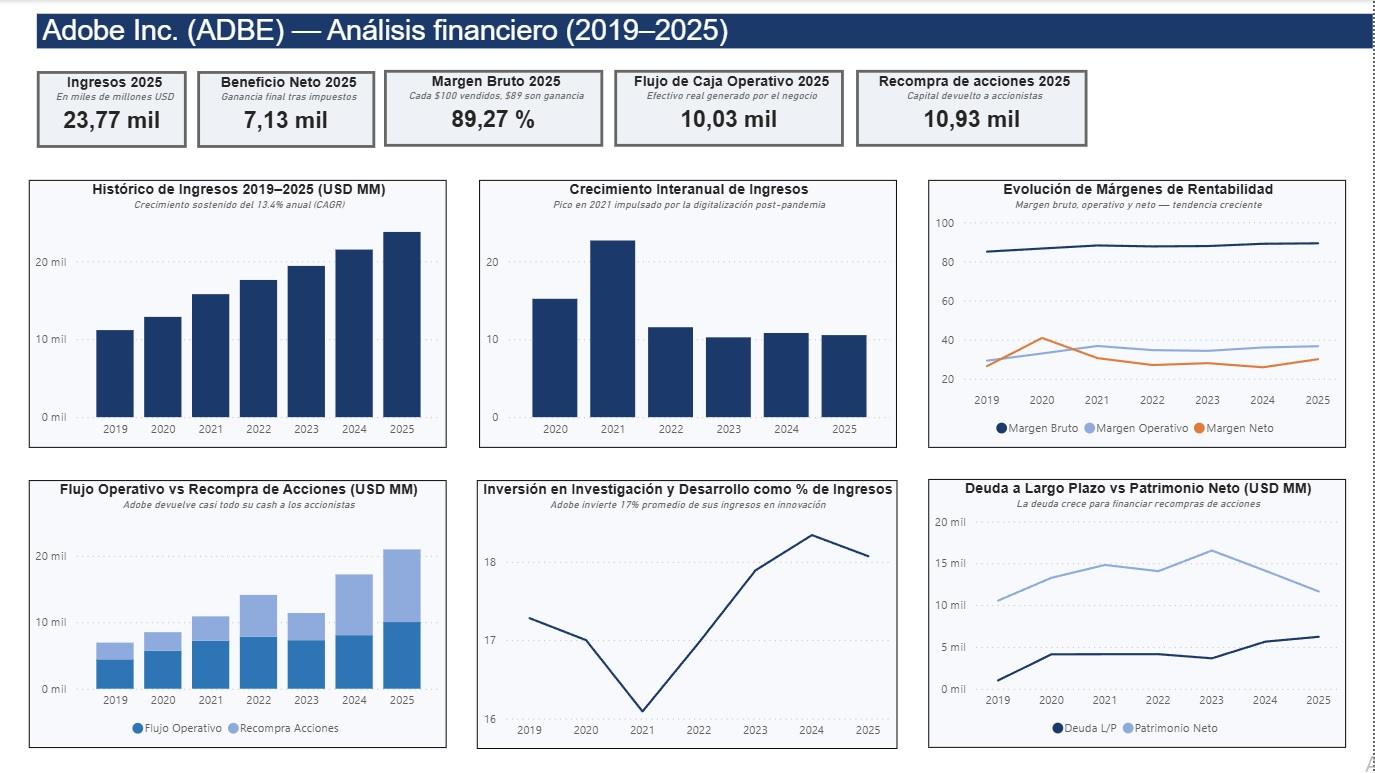

This screenshot's page, from the dashboard's own definition file:
{"tool":"powerbi","page":{"name":"Español","canvas":[1280,720],"ordinal":0},"visuals":[{"type":"card","title":"Ingresos 2025","fields":{"Values":["Max(adobe_bi.revenue)"]},"box":[35.2,66.2,139.8,71.5],"z":0},{"type":"card","title":"Beneficio Neto 2025","fields":{"Values":["Max(adobe_bi.net_income)"]},"box":[184.7,66.2,165.4,71.5],"z":1000},{"type":"card","title":"Margen Bruto 2025","fields":{"Values":["adobe_bi.Gross Margin FY2025"]},"box":[358.6,65.1,203.9,71.5],"z":2000},{"type":"card","title":"Flujo de Caja Operativo 2025","fields":{"Values":["Max(adobe_bi.cash_from_operations)"]},"box":[573.2,65.1,213.5,71.5],"z":3000},{"type":"card","title":"Recompra de acciones 2025","fields":{"Values":["adobe_bi.Buybacks FY2025"]},"box":[798.4,65.1,215.6,71.5],"z":4000},{"type":"columnChart","title":"Histórico de Ingresos 2019–2025 (USD MM)","fields":{"Y":["Sum(adobe_bi.revenue)"],"Category":["adobe_bi.year"]},"box":[27.8,167.6,389.6,249.8],"z":5000},{"type":"lineChart","title":"Evolución de Márgenes de Rentabilidad","fields":{"Category":["adobe_bi.year"],"Y":["Sum(adobe_bi.gross_margin_pct)","Sum(adobe_bi.operating_margin_pct)","Sum(adobe_bi.net_margin_pct)"]},"box":[865.7,167.6,389.6,249.8],"z":6000},{"type":"clusteredColumnChart","title":"Crecimiento Interanual de Ingresos","fields":{"Category":["adobe_bi.year"],"Y":["Sum(adobe_bi.revenue_yoy_pct)"]},"box":[447.2,167.6,389.6,249.8],"z":7000},{"type":"lineChart","title":"Inversión en Investigación y Desarrollo como % de Ingresos","fields":{"Category":["adobe_bi.year"],"Y":["Sum(adobe_bi.rd_pct_revenue)"]},"box":[445.1,447.2,391.7,250.8],"z":8000},{"type":"columnChart","title":"Flujo Operativo vs Recompra de Acciones (USD MM)","fields":{"Category":["adobe_bi.year"],"Y":["Sum(adobe_bi.cash_from_operations)","adobe_bi.Buybacks Positivo","Sum(adobe_bi.cash_from_operations)"]},"box":[27.8,447.2,389.6,249.8],"z":9000},{"type":"lineChart","title":"Deuda a Largo Plazo vs Patrimonio Neto (USD MM)","fields":{"Category":["adobe_bi.year"],"Y":["Sum(adobe_bi.long_term_debt)","Sum(adobe_bi.total_equity)"]},"box":[865.7,446.2,389.6,250.8],"z":10000},{"type":"textbox","title":"Adobe Inc. (ADBE) — Análisis financiero (2019–2025)","box":[35.2,12.8,1244.6,32],"z":11000}]}

Visuals, with their boxes in screenshot pixels (x1, y1, x2, y2), scaled from the page's 1280x720 canvas onto the 1375x773 screenshot:
"Ingresos 2025" card: 38,71,188,148
"Beneficio Neto 2025" card: 198,71,376,148
"Margen Bruto 2025" card: 385,70,604,147
"Flujo de Caja Operativo 2025" card: 616,70,845,147
"Recompra de acciones 2025" card: 858,70,1089,147
"Histórico de Ingresos 2019–2025 (USD MM)" columnChart: 30,180,448,448
"Evolución de Márgenes de Rentabilidad" lineChart: 930,180,1348,448
"Crecimiento Interanual de Ingresos" clusteredColumnChart: 480,180,899,448
"Inversión en Investigación y Desarrollo como % de Ingresos" lineChart: 478,480,899,749
"Flujo Operativo vs Recompra de Acciones (USD MM)" columnChart: 30,480,448,748
"Deuda a Largo Plazo vs Patrimonio Neto (USD MM)" lineChart: 930,479,1348,748
"Adobe Inc. (ADBE) — Análisis financiero (2019–2025)" textbox: 38,14,1374,48
